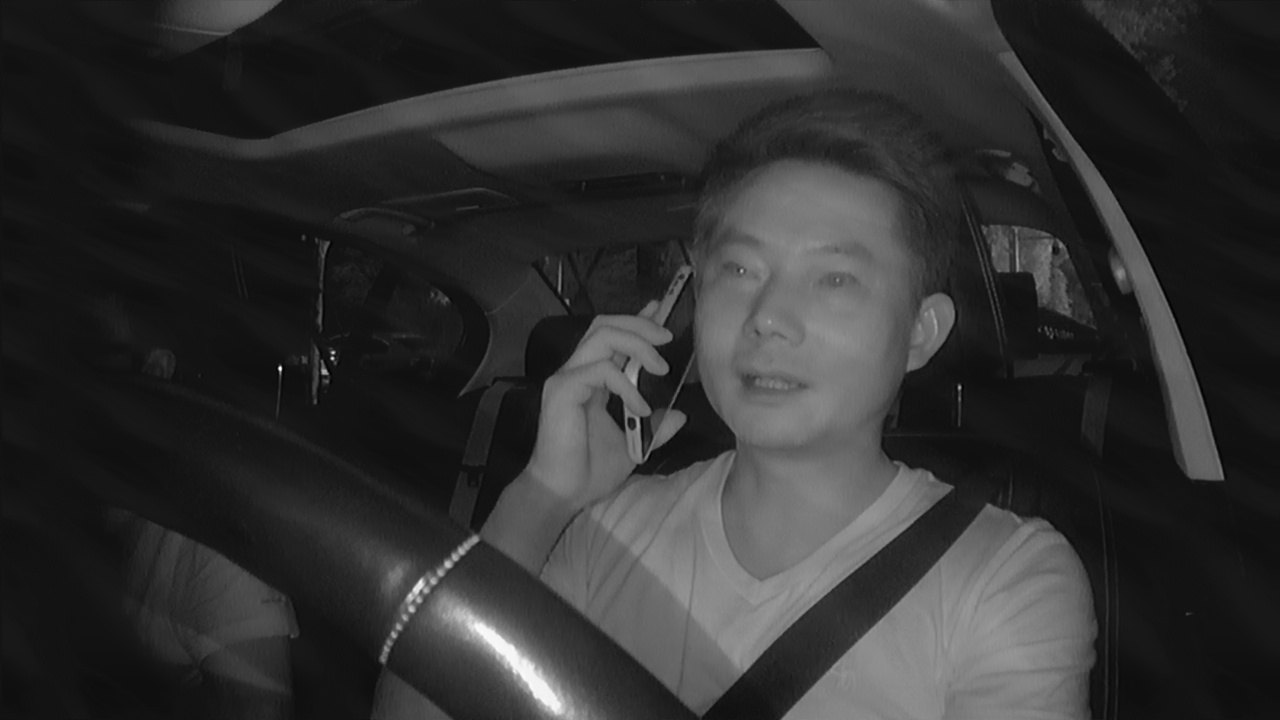hand: (532, 299, 683, 507)
